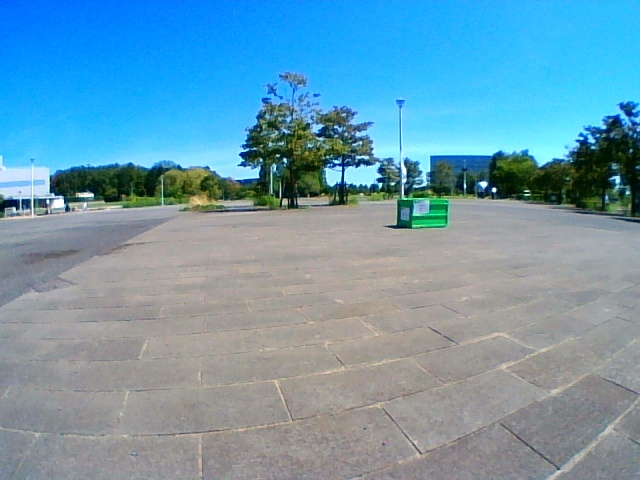green_box: (397, 198, 447, 229)
tag: (412, 200, 429, 215)
